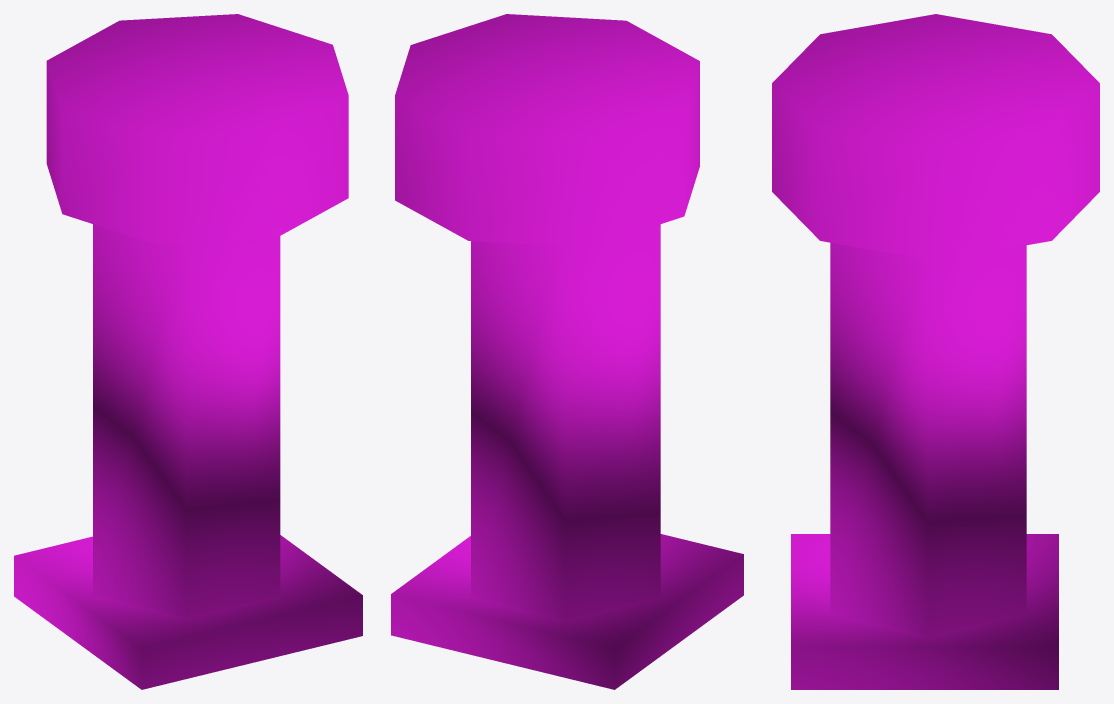
File: ps2_jrpg_shrine_save_crystal_pedestal.obj
3 views of the same model, side by side, from view 1: azimuth 30°, elevation 25°; view 2: azimuth 150°, elevation 25°; view 3: azimuth 270°, elevation 25° (orthographic). The views are drawn at different scales.
Bounding box in the file's own units: 1.04 × 1.95 × 1.04.
